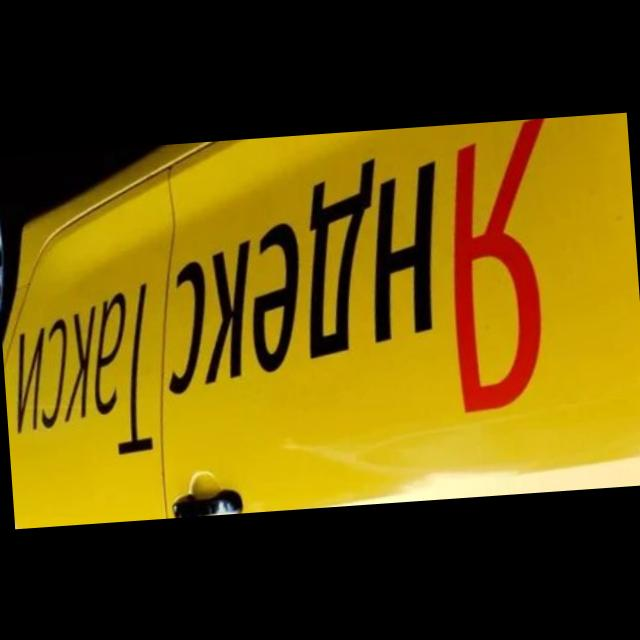taxi: (1, 112, 640, 529)
